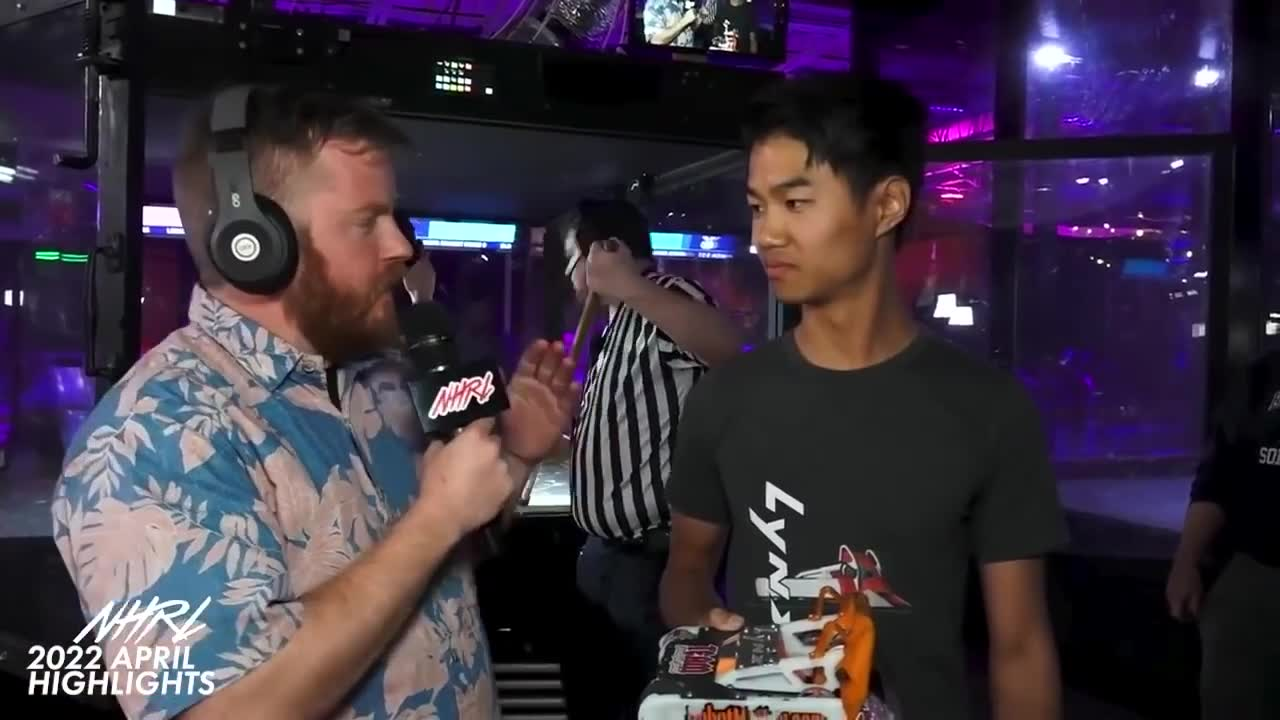combatbot: (638, 599, 900, 720)
